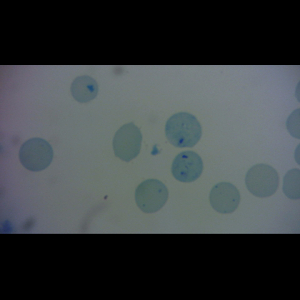erythrocyte: (111, 122, 144, 164), (17, 137, 54, 172), (244, 163, 280, 198), (69, 74, 99, 104)
punctate reticulocyte: (164, 112, 202, 149), (134, 178, 170, 214), (208, 181, 241, 215), (171, 150, 204, 183)
